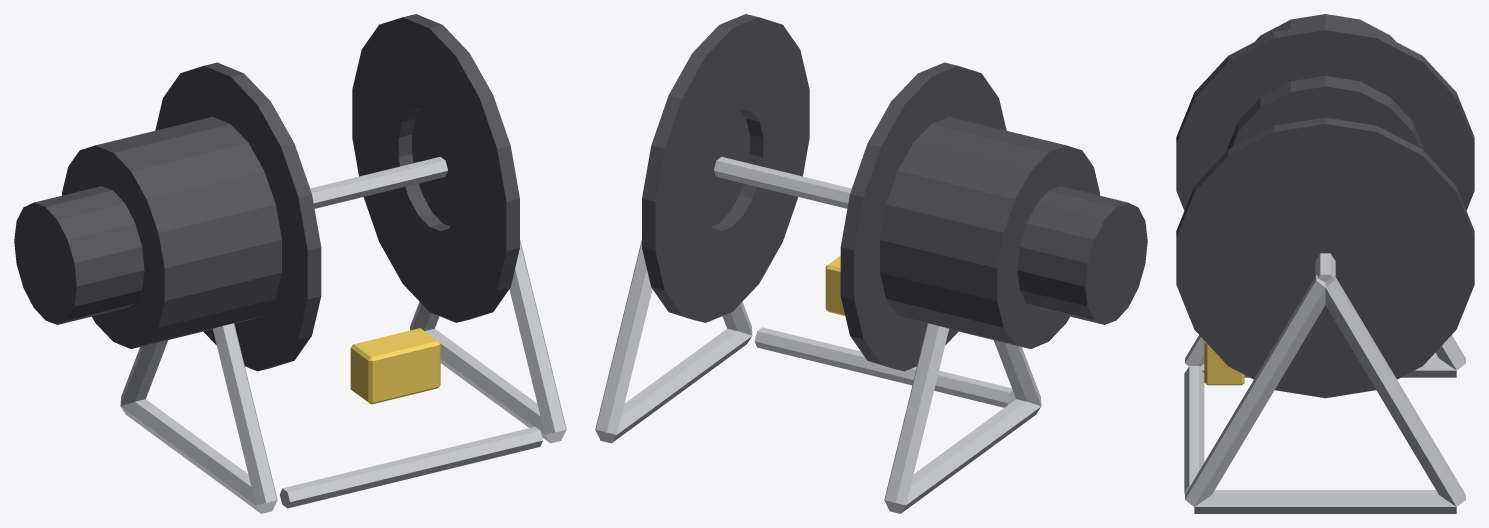
File: live-music-venue-and-festival-stage-multicore-cable-dr-67864f73.glb
3 views of the same model, side by side, from view 1: azimuth 30°, elevation 25°; view 2: azimuth 150°, elevation 25°; view 3: azimuth 270°, elevation 25° (orthographic). The views are drawn at different scales.
Visible parts, largest first — view 1: drum, multicore-cable-drum; view 2: drum, multicore-cable-drum; view 3: drum, multicore-cable-drum.
Boxes of the visible parts, x1,y1,x2,y2 form: drum: (14,14,519,371); multicore-cable-drum: (120,157,566,513); drum: (642,14,1147,371); multicore-cable-drum: (595,157,1041,513); drum: (1176,14,1474,398); multicore-cable-drum: (1184,253,1465,513).
Bounding box in the file's own units: 1 × 0.8008 × 0.5909.
